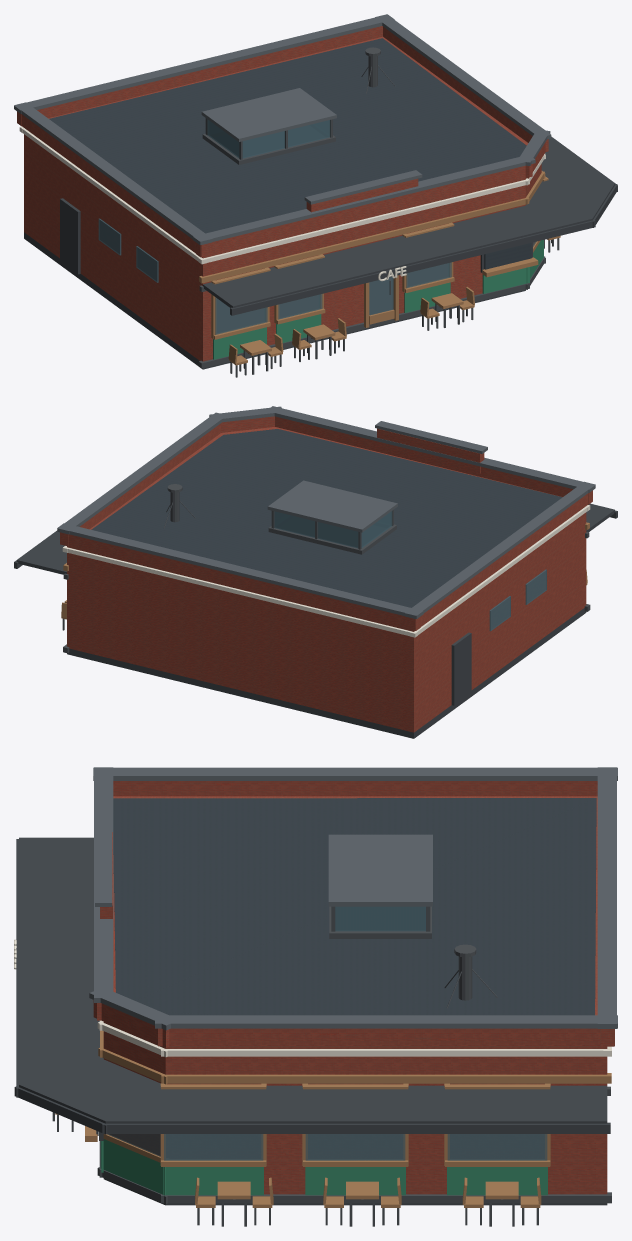
Rendered from cafe-corner.glb.
3 views of the same model, one above another, from view 1: azimuth 30°, elevation 25°; view 2: azimuth 150°, elevation 25°; view 3: azimuth 270°, elevation 25° (orthographic). The views are drawn at different scales.
Visible parts, largest first — view 1: flat-roof-iron, cafe-brick-shell, wraparound-charcoal-awning, ring-parapet-01, roof-lantern-cap, ring-parapet-04, ring-parapet-coping-04, ring-parapet-coping-01, ring-parapet-coping-05, awning-front-fascia, ring-parapet-coping-03, shopfront-front-head-beam (+24 smaller); view 2: cafe-brick-shell, flat-roof-iron, ring-parapet-04, roof-lantern-cap, ring-parapet-coping-04, cafe-foundation-plinth, ring-parapet-coping-01, ring-parapet-coping-05, ring-parapet-01, ring-parapet-coping-03, ring-parapet-05, cream-band-04 (+13 smaller); view 3: flat-roof-iron, wraparound-charcoal-awning, cafe-brick-shell, ring-parapet-03, ring-parapet-05, roof-lantern-cap, ring-parapet-coping-05, ring-parapet-coping-03, awning-east-fascia, ring-parapet-coping-04, shopfront-east-head-beam, cream-band-03 (+29 smaller).
Boxes of the visible parts, x1,y1,x2,y2 form: flat-roof-iron: (49,38,526,233); cafe-brick-shell: (24,36,541,361); wraparound-charcoal-awning: (203,136,615,307); ring-parapet-01: (196,164,532,257); roof-lantern-cap: (201,88,336,141); ring-parapet-04: (17,26,382,126); ring-parapet-coping-04: (14,14,394,113); ring-parapet-coping-01: (193,154,535,244); ring-parapet-coping-05: (14,102,212,244); awning-front-fascia: (230,219,595,315); ring-parapet-coping-03: (375,14,551,138); shopfront-front-head-beam: (199,196,529,283); cafe-brick-shell: (67,427,586,732); flat-roof-iron: (91,429,562,607); ring-parapet-04: (60,532,420,630); roof-lantern-cap: (267,480,397,532); ring-parapet-coping-04: (57,523,423,618); cafe-foundation-plinth: (67,608,586,738); ring-parapet-coping-01: (266,406,595,492); ring-parapet-coping-05: (404,481,595,618); ring-parapet-01: (275,416,592,504); ring-parapet-coping-03: (57,412,224,534); ring-parapet-05: (407,493,587,630); cream-band-04: (62,546,417,637); flat-roof-iron: (113,798,596,1015); wraparound-charcoal-awning: (19,837,607,1123); cafe-brick-shell: (103,796,607,1194); ring-parapet-03: (158,1028,614,1046); ring-parapet-05: (113,781,597,796); roof-lantern-cap: (328,834,432,906); ring-parapet-coping-05: (93,767,617,780); ring-parapet-coping-03: (155,1015,617,1028); awning-east-fascia: (102,1122,610,1133); ring-parapet-coping-04: (597,767,616,1028); shopfront-east-head-beam: (161,1073,611,1083); cream-band-03: (161,1047,611,1056).
Size of the model in its own units: 14.97 by 5.15 by 13.19.
9 materials, 2 textured.
